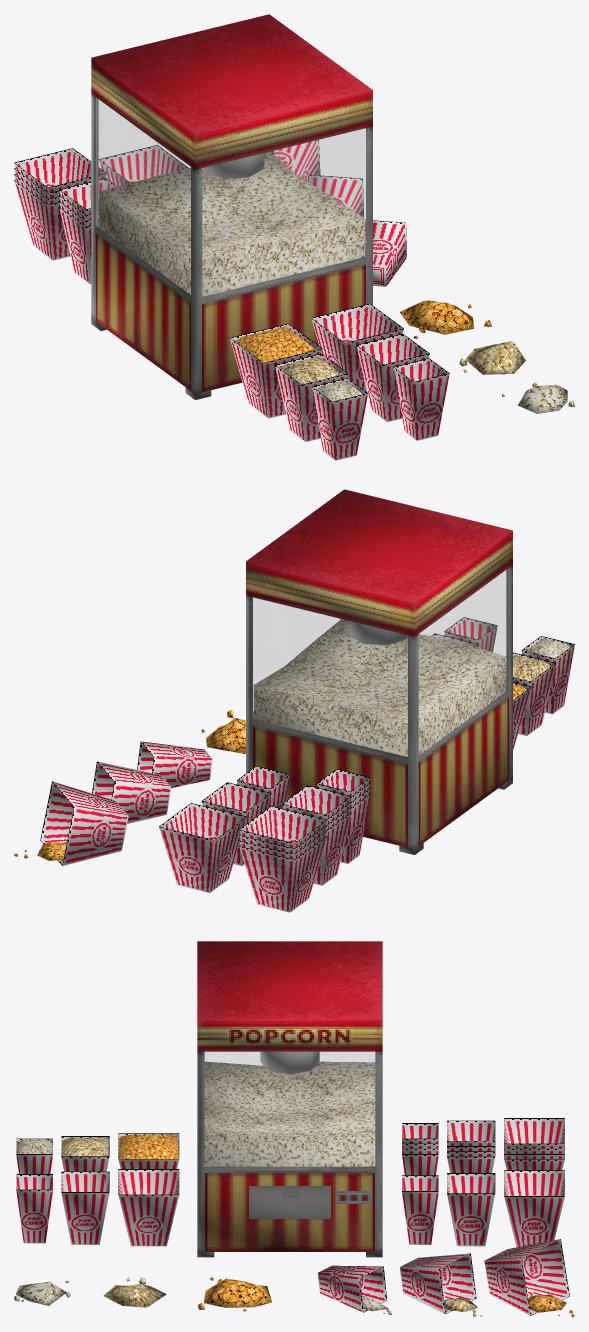
The model's file is popcorn_machine__boxes_psx.glb.
The picture shows the model from 3 angles, top to bottom: view 1: azimuth 30°, elevation 25°; view 2: azimuth 150°, elevation 25°; view 3: azimuth 270°, elevation 25°; orthographic projection. The views are drawn at different scales.
Visible parts, largest first — view 1: PopcornMachine, StackedLTubs, FullPopcornTubL, HalfPopcornTubL, HalfPopcornTubS, FullPopcornTubS, FullPopcornTubM, HalfPopcornTubM, StackedMTubs, EmptyPopcornTubL, Clutter01, Clutter06 (+4 smaller); view 2: PopcornMachine, StackedLTubs, Clutter03, EmptyPopcornTubL, Clutter02, StackedMTubs, Clutter01, StackedSTubs, FullPopcornTubM, FullPopcornTubS, EmptyPopcornTubM, EmptyPopcornTubS (+3 smaller); view 3: PopcornMachine, Clutter03, HalfPopcornTubL, EmptyPopcornTubL, Clutter02, StackedLTubs, HalfPopcornTubM, EmptyPopcornTubM, Clutter01, StackedMTubs, EmptyPopcornTubS, HalfPopcornTubS (+7 smaller).
Part boxes in pixels (left/top/right/bottom): PopcornMachine: left=91, top=14, right=372, bottom=399; StackedLTubs: left=14, top=148, right=106, bottom=260; FullPopcornTubL: left=229, top=323, right=322, bottom=418; HalfPopcornTubL: left=311, top=303, right=403, bottom=391; HalfPopcornTubS: left=393, top=358, right=449, bottom=440; FullPopcornTubS: left=312, top=378, right=367, bottom=460; FullPopcornTubM: left=275, top=353, right=348, bottom=441; HalfPopcornTubM: left=356, top=333, right=429, bottom=421; StackedMTubs: left=59, top=178, right=116, bottom=283; EmptyPopcornTubL: left=98, top=145, right=188, bottom=186; Clutter01: left=365, top=219, right=406, bottom=286; Clutter06: left=400, top=300, right=491, bottom=338; PopcornMachine: left=246, top=489, right=512, bottom=854; StackedLTubs: left=239, top=806, right=326, bottom=912; Clutter03: left=14, top=781, right=128, bottom=865; EmptyPopcornTubL: left=159, top=803, right=246, bottom=892; Clutter02: left=92, top=761, right=171, bottom=823; StackedMTubs: left=282, top=785, right=351, bottom=885; Clutter01: left=137, top=741, right=212, bottom=787; StackedSTubs: left=317, top=769, right=370, bottom=863; FullPopcornTubM: left=505, top=652, right=555, bottom=735; FullPopcornTubS: left=521, top=636, right=574, bottom=714; EmptyPopcornTubM: left=202, top=782, right=271, bottom=865; EmptyPopcornTubS: left=237, top=766, right=289, bottom=808; PopcornMachine: left=197, top=941, right=382, bottom=1257; Clutter03: left=484, top=1239, right=574, bottom=1317; HalfPopcornTubL: left=118, top=1169, right=179, bottom=1246; EmptyPopcornTubL: left=504, top=1170, right=564, bottom=1247; Clutter02: left=400, top=1253, right=481, bottom=1316; StackedLTubs: left=504, top=1118, right=564, bottom=1170; HalfPopcornTubM: left=61, top=1171, right=109, bottom=1244; EmptyPopcornTubM: left=447, top=1173, right=495, bottom=1246; Clutter01: left=318, top=1265, right=391, bottom=1314; StackedMTubs: left=447, top=1120, right=495, bottom=1172; EmptyPopcornTubS: left=402, top=1175, right=438, bottom=1244; HalfPopcornTubS: left=16, top=1174, right=52, bottom=1243.
Size of the model in its own units: 1.5 by 1.21 by 2.58.
6 materials, 6 textured.
